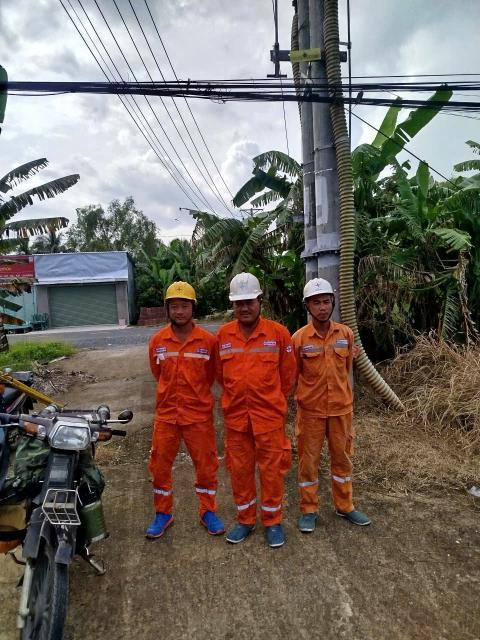helmet: (140, 275, 207, 312), (215, 265, 268, 308), (305, 268, 334, 306)
shoes: (132, 500, 178, 540), (287, 498, 319, 535), (256, 515, 289, 549), (336, 504, 373, 533), (196, 503, 225, 537), (222, 514, 256, 541)
